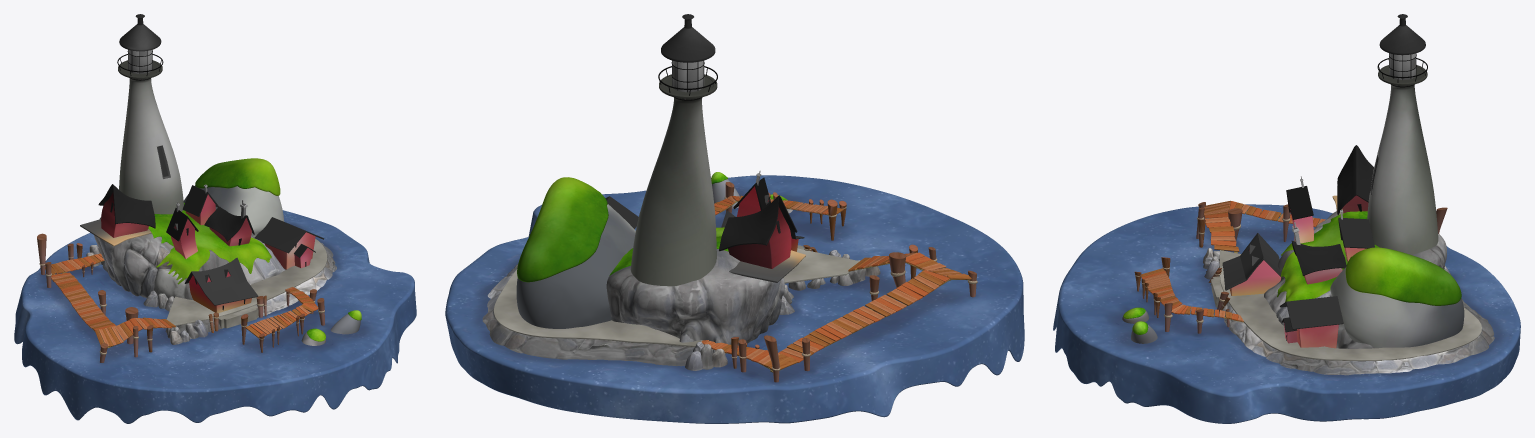
Rendered from Island model-compressed.glb.
The picture shows the model from 3 angles, left to right: view 1: azimuth 30°, elevation 25°; view 2: azimuth 150°, elevation 25°; view 3: azimuth 270°, elevation 25°; orthographic projection. The views are drawn at different scales.
Visible parts, largest first — view 1: node_id59, node_id61, node_id57; view 2: node_id59, node_id61, node_id57; view 3: node_id59, node_id61, node_id57.
Part boxes in pixels (left/top/right/bottom): node_id59: left=14, top=158, right=416, bottom=423; node_id61: left=37, top=14, right=324, bottom=362; node_id57: left=86, top=217, right=360, bottom=345; node_id59: left=445, top=172, right=1024, bottom=423; node_id61: left=516, top=14, right=977, bottom=382; node_id57: left=482, top=179, right=880, bottom=370; node_id59: left=1053, top=200, right=1520, bottom=423; node_id61: left=1134, top=14, right=1464, bottom=348; node_id57: left=1122, top=211, right=1494, bottom=375.
Size of the model in its own units: 0.5281 by 0.4142 by 0.5359.
Materials: 3 (3 with a texture image).
